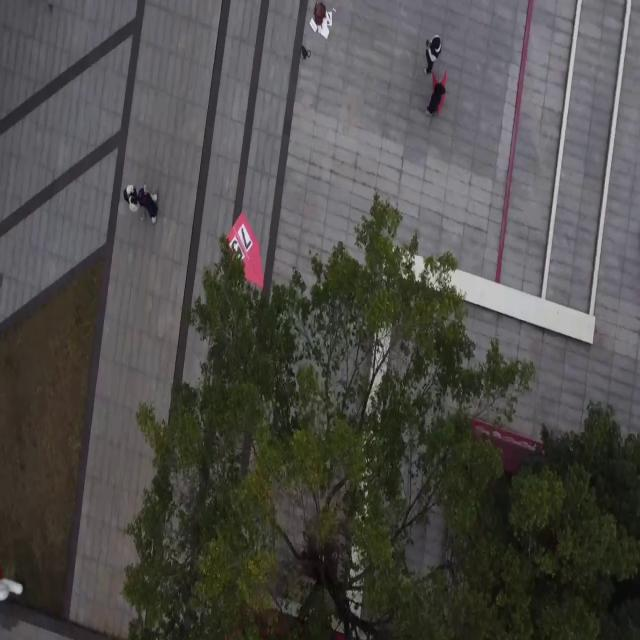-sign-: (227, 212, 265, 290)
